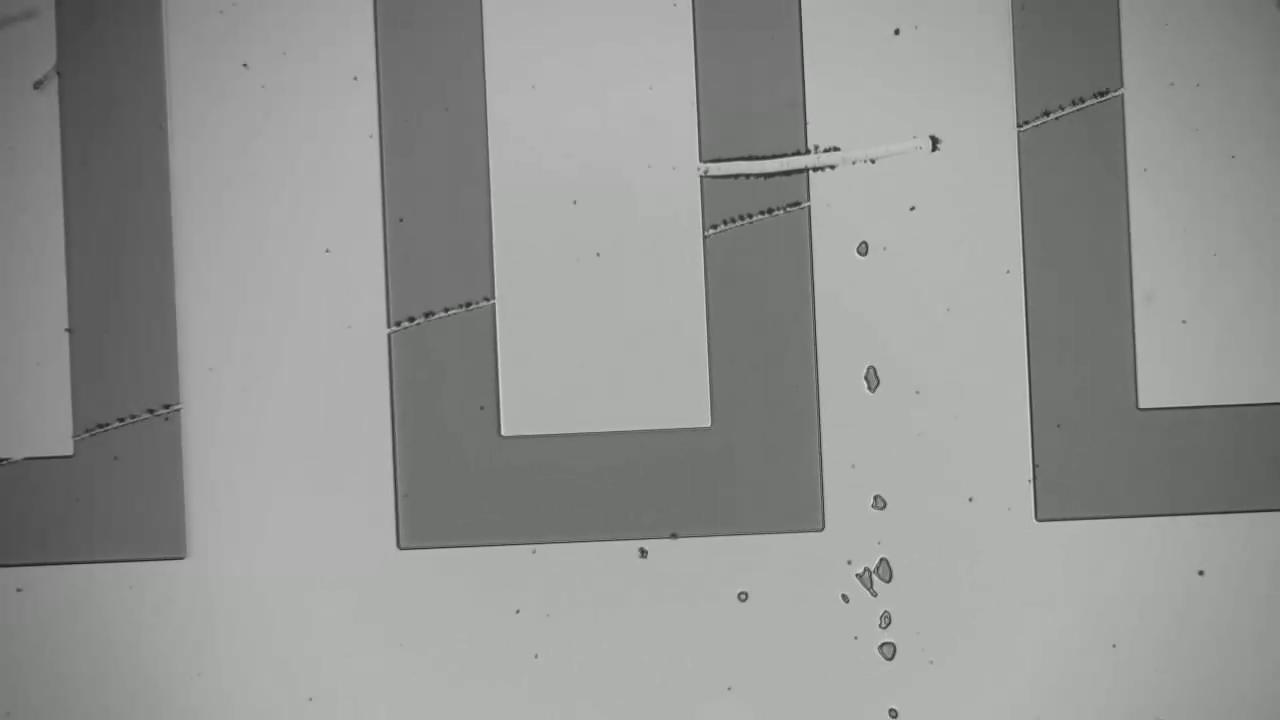scratch: (1017, 89, 1114, 129), (707, 201, 810, 237), (391, 297, 487, 329), (82, 404, 169, 439)
short_cricuit: (669, 112, 846, 191)
